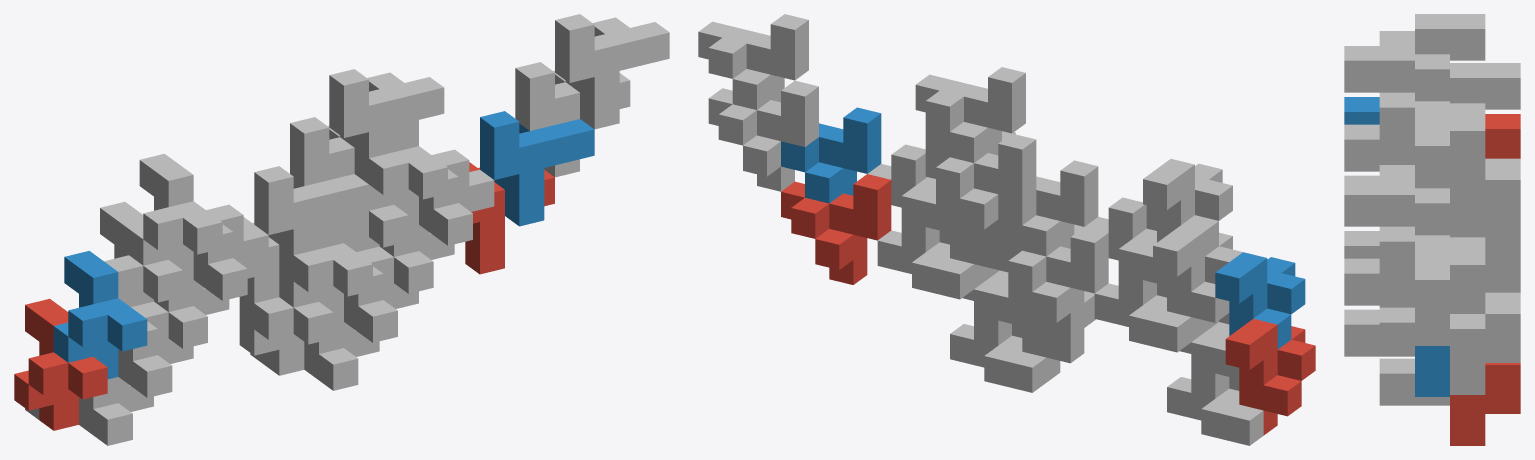
File: tiling.obj
3 views of the same model, side by side, from view 1: azimuth 30°, elevation 25°; view 2: azimuth 150°, elevation 25°; view 3: azimuth 270°, elevation 25° (orthographic). The views are drawn at different scales.
Parts seen in each view (by area): view 1: copy_2_domain_8, copy_2_domain_6, copy_2_domain_4, copy_1_domain_2, copy_1_domain_4, copy_2_domain_2, copy_1_domain_1, copy_1_domain_6, copy_1_domain_8, copy_1_domain_5, copy_1_domain_3, copy_3_domain_4 (+12 smaller); view 2: copy_2_domain_5, copy_2_domain_1, copy_2_domain_8, copy_2_domain_4, copy_2_domain_7, copy_2_domain_3, copy_1_domain_1, copy_2_domain_2, copy_2_domain_6, copy_1_domain_3, copy_1_domain_2, copy_1_domain_4 (+12 smaller); view 3: copy_2_domain_8, copy_1_domain_4, copy_2_domain_4, copy_2_domain_7, copy_1_domain_8, copy_3_domain_8, copy_3_domain_4, copy_2_domain_5, copy_2_domain_3, copy_1_domain_3, copy_3_domain_5, copy_3_domain_7 (+9 smaller).
Part boxes in pixels (x1,y1,x2,y2): copy_2_domain_8: (555, 14, 669, 129); copy_2_domain_6: (480, 111, 594, 226); copy_2_domain_4: (329, 69, 444, 184); copy_1_domain_2: (53, 250, 147, 379); copy_1_domain_4: (129, 153, 222, 282); copy_2_domain_2: (254, 166, 368, 280); copy_1_domain_1: (14, 298, 107, 430); copy_1_domain_6: (279, 217, 372, 324); copy_1_domain_8: (369, 120, 447, 226); copy_1_domain_5: (239, 297, 333, 375); copy_1_domain_3: (100, 201, 182, 306); copy_3_domain_4: (193, 204, 268, 300); copy_2_domain_5: (781, 174, 891, 284); copy_2_domain_1: (998, 227, 1108, 337); copy_2_domain_8: (698, 14, 808, 109); copy_2_domain_4: (915, 67, 1025, 162); copy_2_domain_7: (708, 80, 818, 191); copy_2_domain_3: (925, 133, 1036, 244); copy_1_domain_1: (1225, 318, 1315, 435); copy_2_domain_2: (998, 160, 1098, 256); copy_2_domain_6: (781, 107, 881, 203); copy_1_domain_3: (1153, 225, 1242, 341); copy_1_domain_2: (1215, 252, 1305, 349); copy_1_domain_4: (1143, 159, 1232, 255); copy_2_domain_8: (1415, 188, 1485, 345); copy_1_domain_4: (1344, 14, 1485, 92); copy_2_domain_4: (1415, 54, 1485, 177); copy_2_domain_7: (1450, 237, 1520, 394); copy_1_domain_8: (1344, 163, 1485, 226); copy_3_domain_8: (1344, 226, 1414, 305); copy_3_domain_4: (1344, 92, 1414, 171); copy_2_domain_5: (1450, 363, 1520, 445); copy_2_domain_3: (1450, 103, 1520, 226); copy_1_domain_3: (1450, 63, 1520, 109); copy_3_domain_5: (1379, 358, 1449, 405); copy_3_domain_7: (1379, 292, 1520, 354).
Bounding box in the file's own units: 25 × 11 × 5.
